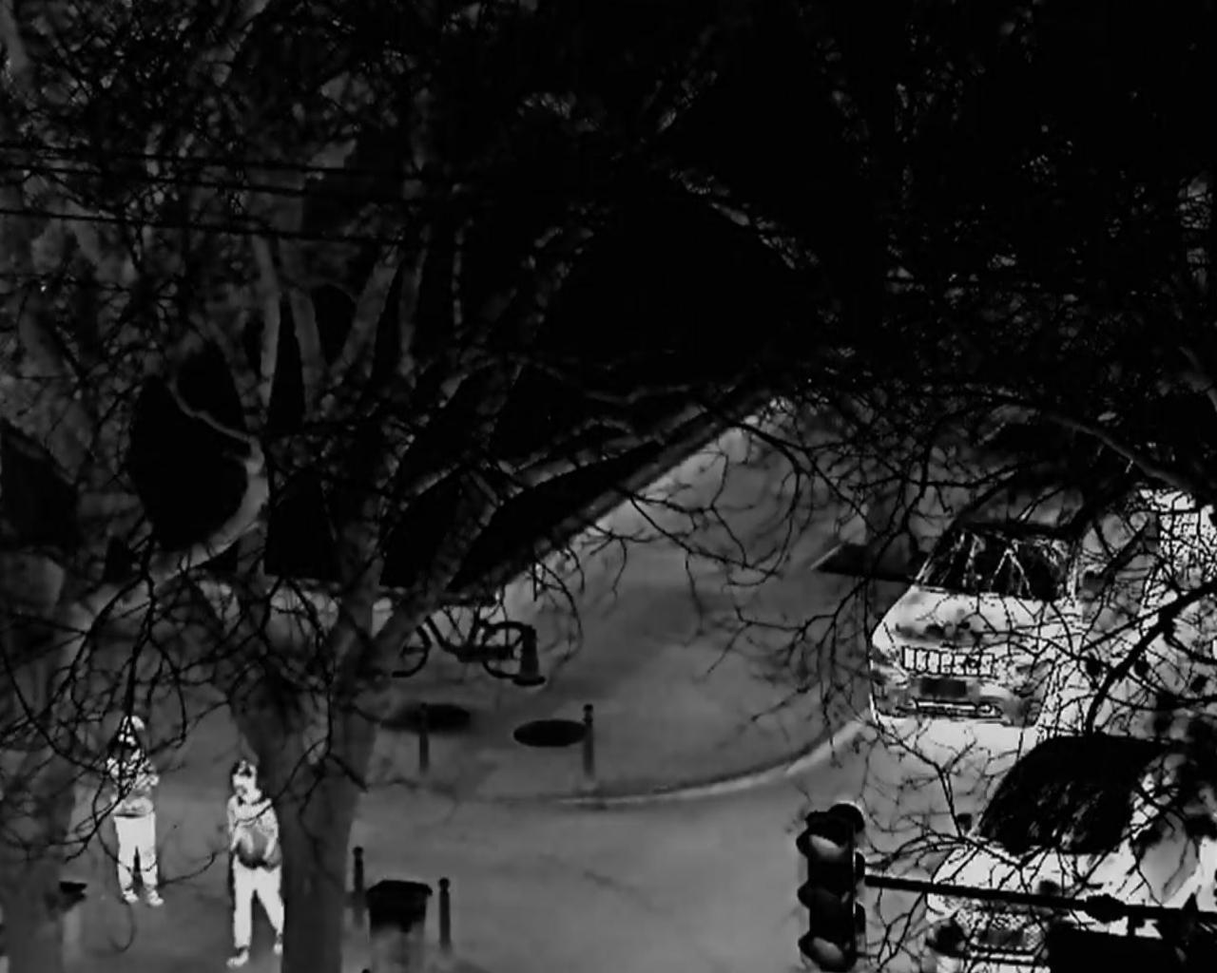person: (222, 759, 284, 966), (105, 715, 166, 907)
